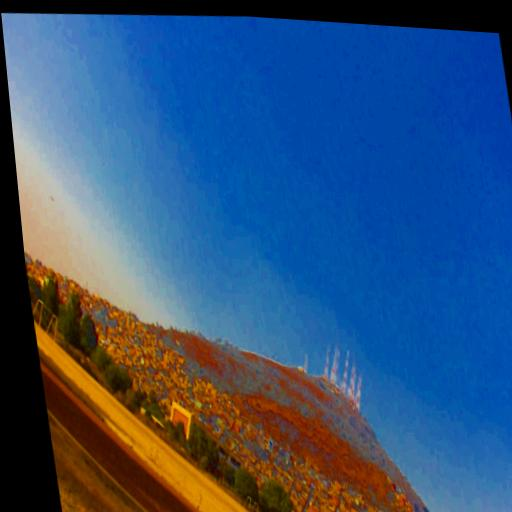drones: (49, 195, 55, 203)
